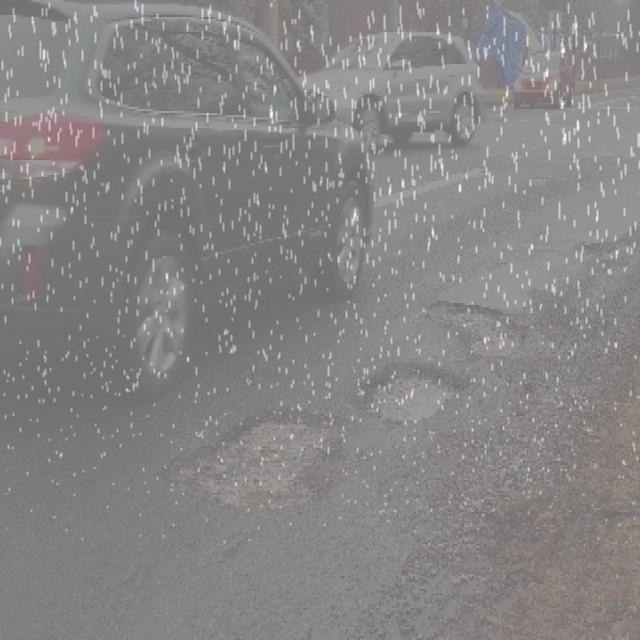Pothole: (154, 407, 352, 514), (357, 351, 475, 428), (423, 294, 529, 360), (574, 226, 640, 270)
